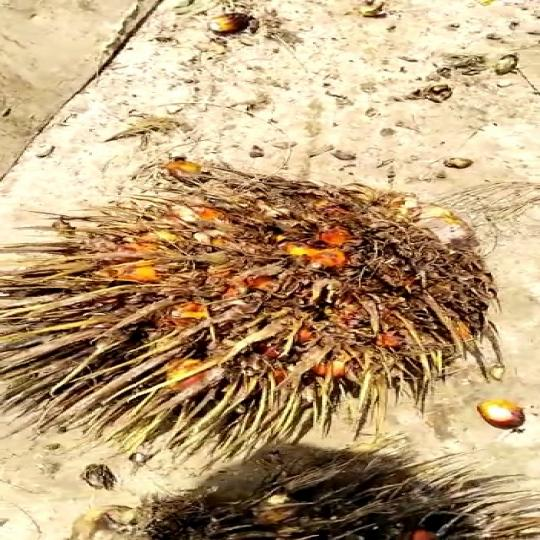terlalu masak: (0, 150, 529, 449)
